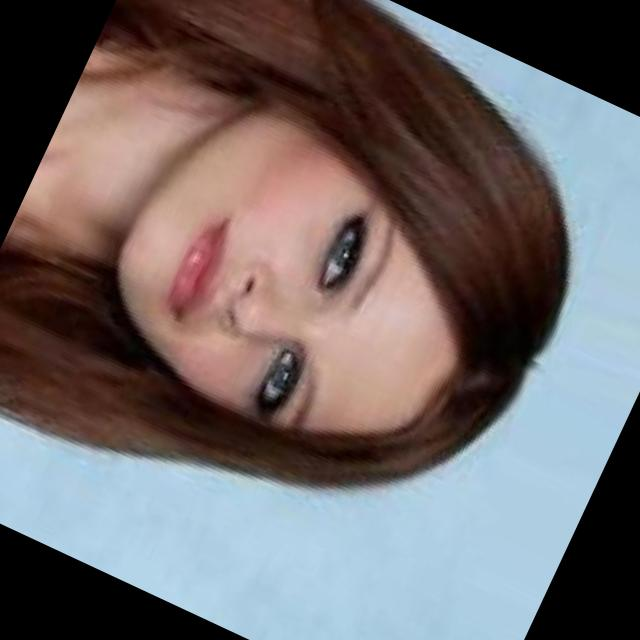bareface: (82, 46, 596, 534)
